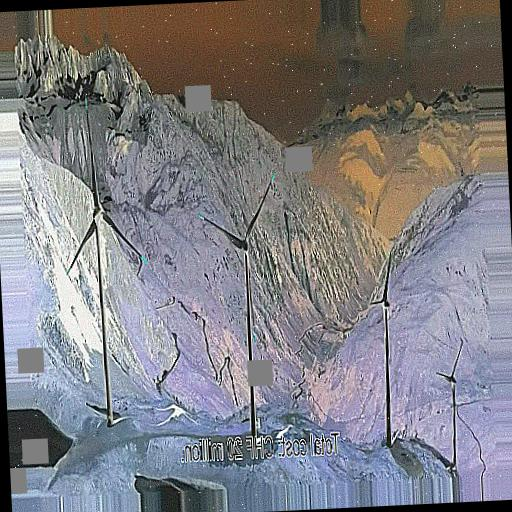wind turbine: (65, 94, 149, 421), (197, 171, 278, 426), (365, 250, 399, 444), (434, 343, 465, 462)
